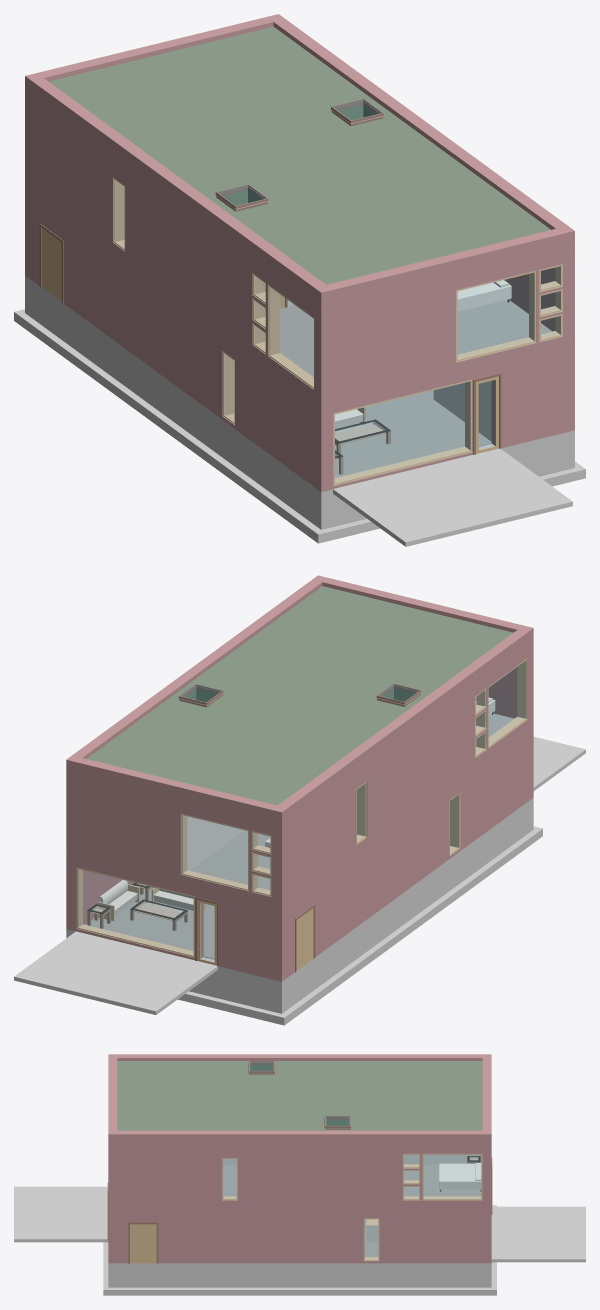
3 renders of one model, top to bottom at view 1: azimuth 30°, elevation 25°; view 2: azimuth 150°, elevation 25°; view 3: azimuth 270°, elevation 25°, orthographic. The views are drawn at different scales.
Visible parts, largest first — view 1: 0jf0rYHfX3RAB3bSQRjmxl, 2O2Fr$t4X7Zf8NOew3FNhv, 2O2Fr$t4X7Zf8NOew3FLPP, 2O2Fr$t4X7Zf8NOew3FLOH, 1CZILmCaHETO8tf3SgGEXu, 2O2Fr$t4X7Zf8NOew3FNr2, 2O2Fr$t4X7Zf8NOew3FKE5, 0jf0rYHfX3RAB3bSIRjmr1, 2OBrcmyk58NupXoVOHUtxr, 0jf0rYHfX3RAB3bSIRjmoa, 0jf0rYHfX3RAB3bSIRjmpw, 0kF45Qs8L9PAM9kmb1lT5t (+17 smaller); view 2: 0jf0rYHfX3RAB3bSQRjmxl, 2O2Fr$t4X7Zf8NOew3FNhv, 2O2Fr$t4X7Zf8NOew3FLPP, 2O2Fr$t4X7Zf8NOew3FLQD, 1CZILmCaHETO8tf3SgGEWh, 2O2Fr$t4X7Zf8NOew3FNtn, 2O2Fr$t4X7Zf8NOew3FKE5, 0jf0rYHfX3RAB3bSIRjmr1, 0jf0rYHfX3RAB3bSIRjmmy, 0kF45Qs8L9PAM9kmb1lT5t, 0jf0rYHfX3RAB3bSIRjmpw, 2OBrcmyk58NupXoVOHUtgP (+18 smaller); view 3: 0jf0rYHfX3RAB3bSQRjmxl, 2O2Fr$t4X7Zf8NOew3FNqI, 2O2Fr$t4X7Zf8NOew3FLR9, 2O2Fr$t4X7Zf8NOew3FK9N, 0jf0rYHfX3RAB3bSIRjmpw, 1CZILmCaHETO8tf3SgGEWh, 1CZILmCaHETO8tf3SgGEXu, 0kF45Qs8L9PAM9kmb1lT5d, 0jf0rYHfX3RAB3bSIRjmr1, 1hOSvn6df7F8_7GcBWlRGQ, 2OBrcmyk58NupXoVOHUtDX, 2OBrcmyk58NupXoVOHUtI8 (+6 smaller).
Boxes of the visible parts, bbox=[...] form: 0jf0rYHfX3RAB3bSQRjmxl: bbox=[49, 26, 550, 284]; 2O2Fr$t4X7Zf8NOew3FNhv: bbox=[32, 187, 314, 486]; 2O2Fr$t4X7Zf8NOew3FLPP: bbox=[25, 94, 321, 398]; 2O2Fr$t4X7Zf8NOew3FLOH: bbox=[321, 249, 574, 398]; 1CZILmCaHETO8tf3SgGEXu: bbox=[333, 448, 572, 546]; 2O2Fr$t4X7Zf8NOew3FNr2: bbox=[314, 340, 562, 491]; 2O2Fr$t4X7Zf8NOew3FKE5: bbox=[32, 281, 314, 524]; 0jf0rYHfX3RAB3bSIRjmr1: bbox=[32, 78, 325, 305]; 2OBrcmyk58NupXoVOHUtxr: bbox=[335, 390, 491, 477]; 0jf0rYHfX3RAB3bSIRjmoa: bbox=[314, 229, 562, 310]; 0jf0rYHfX3RAB3bSIRjmpw: bbox=[273, 19, 574, 251]; 0kF45Qs8L9PAM9kmb1lT5t: bbox=[14, 309, 309, 532]; 0jf0rYHfX3RAB3bSQRjmxl: bbox=[86, 586, 513, 805]; 2O2Fr$t4X7Zf8NOew3FNhv: bbox=[287, 722, 527, 977]; 2O2Fr$t4X7Zf8NOew3FLPP: bbox=[282, 644, 533, 901]; 2O2Fr$t4X7Zf8NOew3FLQD: bbox=[66, 775, 281, 902]; 1CZILmCaHETO8tf3SgGEWh: bbox=[14, 931, 217, 1014]; 2O2Fr$t4X7Zf8NOew3FNtn: bbox=[66, 850, 287, 981]; 2O2Fr$t4X7Zf8NOew3FKE5: bbox=[287, 802, 527, 1009]; 0jf0rYHfX3RAB3bSIRjmr1: bbox=[278, 630, 527, 823]; 0jf0rYHfX3RAB3bSIRjmmy: bbox=[66, 755, 287, 827]; 0kF45Qs8L9PAM9kmb1lT5t: bbox=[262, 836, 530, 1025]; 0jf0rYHfX3RAB3bSIRjmpw: bbox=[72, 575, 327, 758]; 2OBrcmyk58NupXoVOHUtgP: bbox=[85, 888, 214, 959]; 0jf0rYHfX3RAB3bSQRjmxl: bbox=[117, 1061, 482, 1130]; 2O2Fr$t4X7Zf8NOew3FNqI: bbox=[108, 1202, 482, 1263]; 2O2Fr$t4X7Zf8NOew3FLR9: bbox=[108, 1146, 491, 1202]; 2O2Fr$t4X7Zf8NOew3FK9N: bbox=[108, 1263, 482, 1287]; 0jf0rYHfX3RAB3bSIRjmpw: bbox=[108, 1130, 482, 1146]; 1CZILmCaHETO8tf3SgGEWh: bbox=[491, 1206, 585, 1262]; 1CZILmCaHETO8tf3SgGEXu: bbox=[14, 1186, 108, 1242]; 0kF45Qs8L9PAM9kmb1lT5d: bbox=[103, 1281, 496, 1295]; 0jf0rYHfX3RAB3bSIRjmr1: bbox=[117, 1054, 482, 1060]; 1hOSvn6df7F8_7GcBWlRGQ: bbox=[128, 1222, 158, 1263]; 2OBrcmyk58NupXoVOHUtDX: bbox=[404, 1165, 481, 1196]; 2OBrcmyk58NupXoVOHUtI8: bbox=[439, 1163, 481, 1191].
Bounding box in the file's own units: 9.28 × 8.18 × 26.56.
